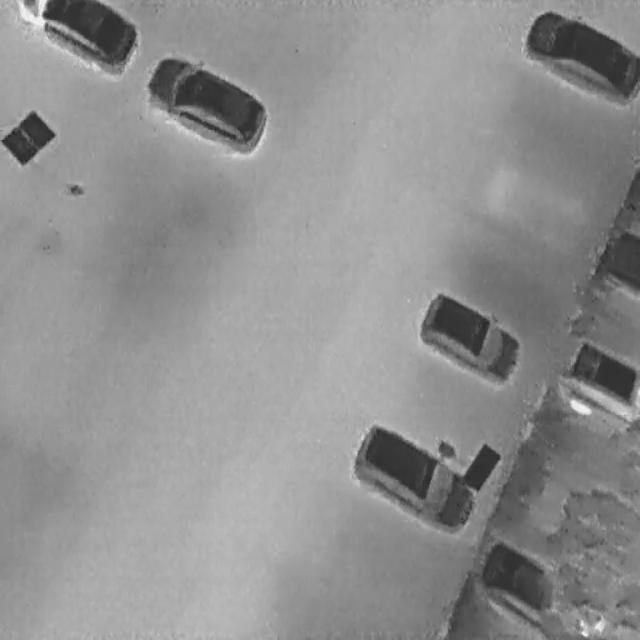Car: (345, 408, 481, 542), (137, 40, 276, 165), (410, 274, 530, 394), (480, 538, 612, 636), (524, 7, 638, 105), (16, 0, 140, 76), (560, 337, 638, 422), (603, 228, 638, 292)
